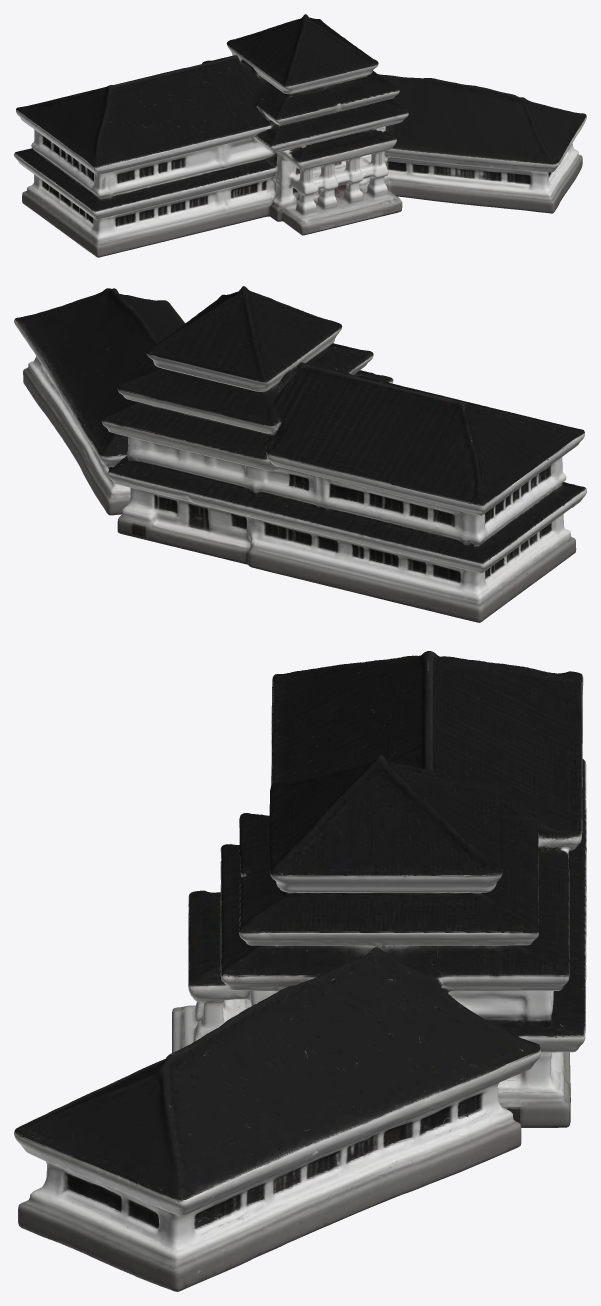
File: panyawangan.optimized.glb
The picture shows the model from 3 angles, top to bottom: view 1: azimuth 30°, elevation 25°; view 2: azimuth 150°, elevation 25°; view 3: azimuth 270°, elevation 25°; orthographic projection. The views are drawn at different scales.
Visible parts, largest first — view 1: geometry_0; view 2: geometry_0; view 3: geometry_0.
Part boxes in pixels (x1=…): geometry_0: x1=14, y1=14, x2=586, y2=257; geometry_0: x1=14, y1=286, x2=586, y2=622; geometry_0: x1=14, y1=651, x2=586, y2=1291.
Size of the model in its own units: 1 by 0.3443 by 0.546.
1 material, 1 textured.
